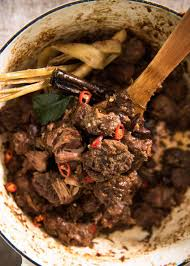rendang: (1, 50, 190, 249)
